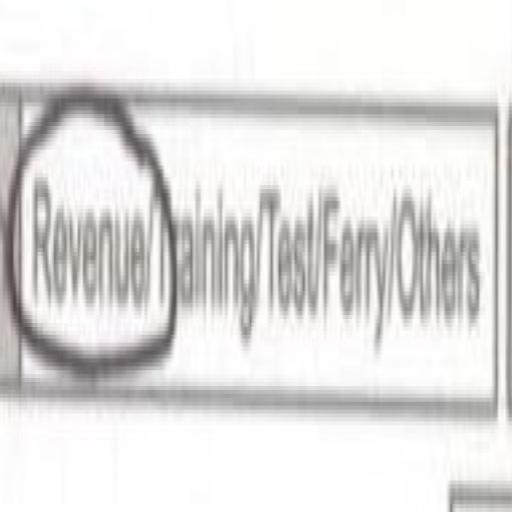check: (0, 0, 153, 441)
